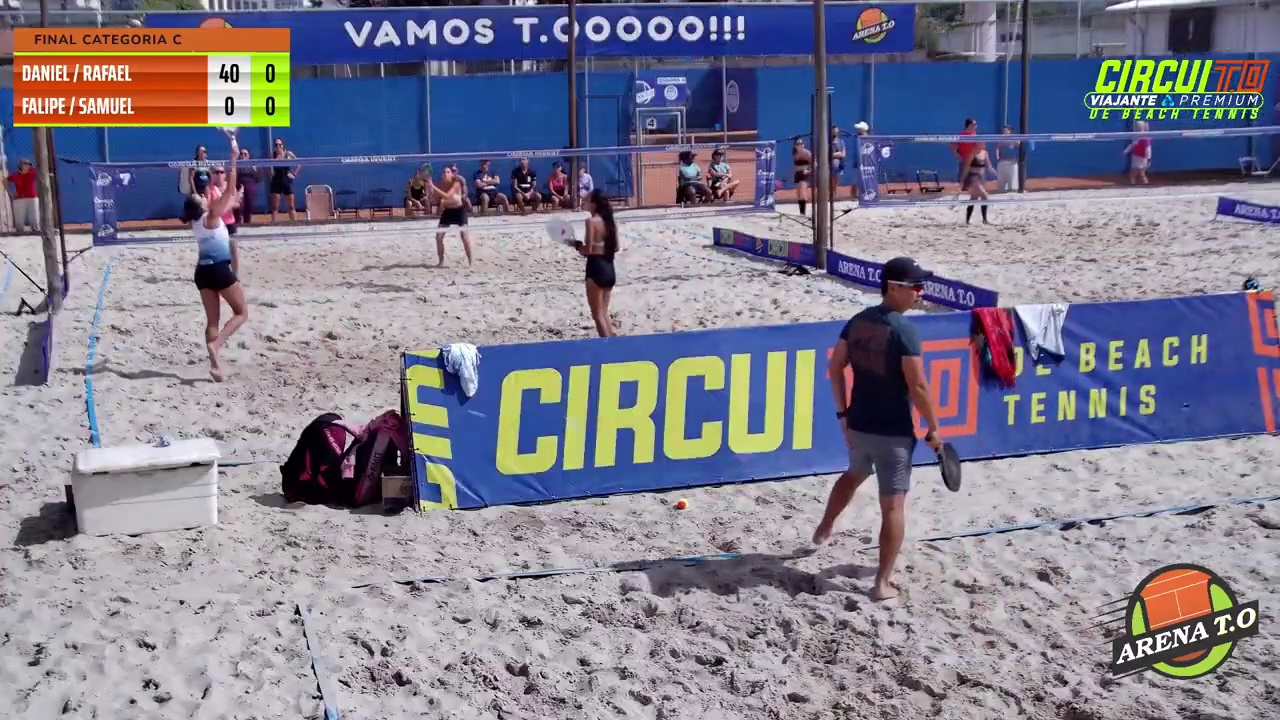court_line: (423, 0, 581, 305)
